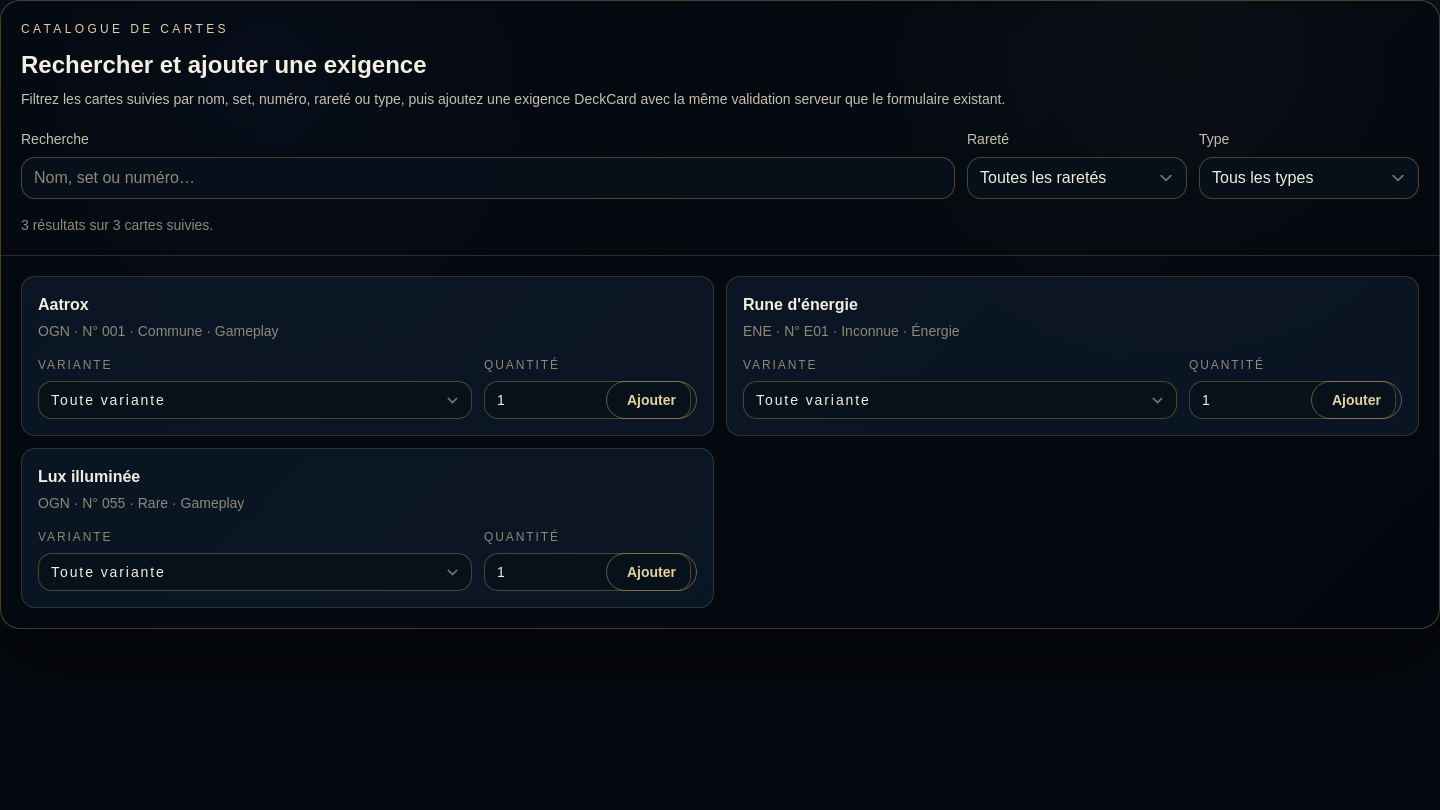
Scenario: DeckCardCatalog › filters catalog cards by display name
Type "lux" into the search field labelled "Recherche" at (488, 178), box x1=21 y1=157 x2=955 y2=199
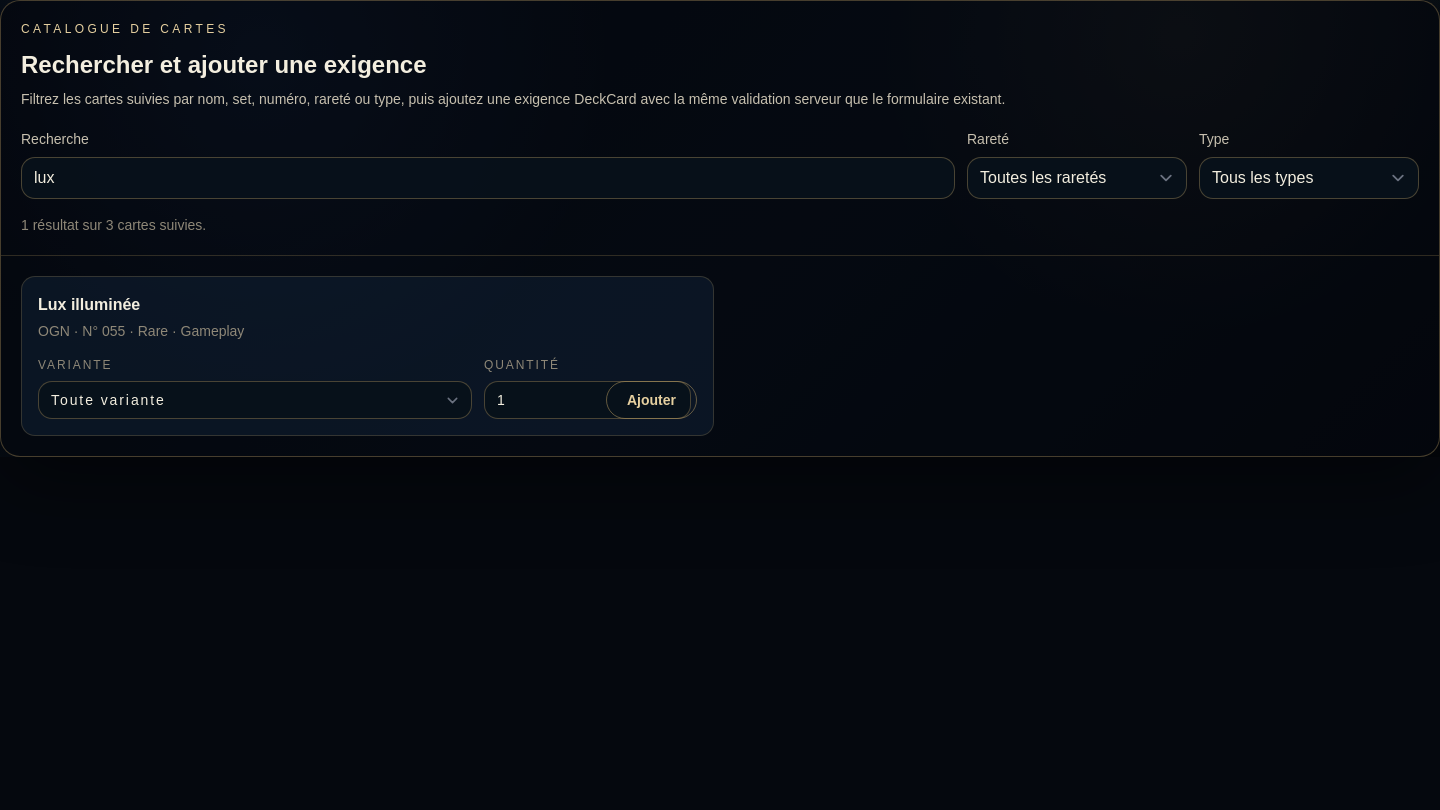
expect the text "Lux illuminée" is shown: met, box x1=38 y1=296 x2=140 y2=313
expect the text "Aatrox" is gone: met
